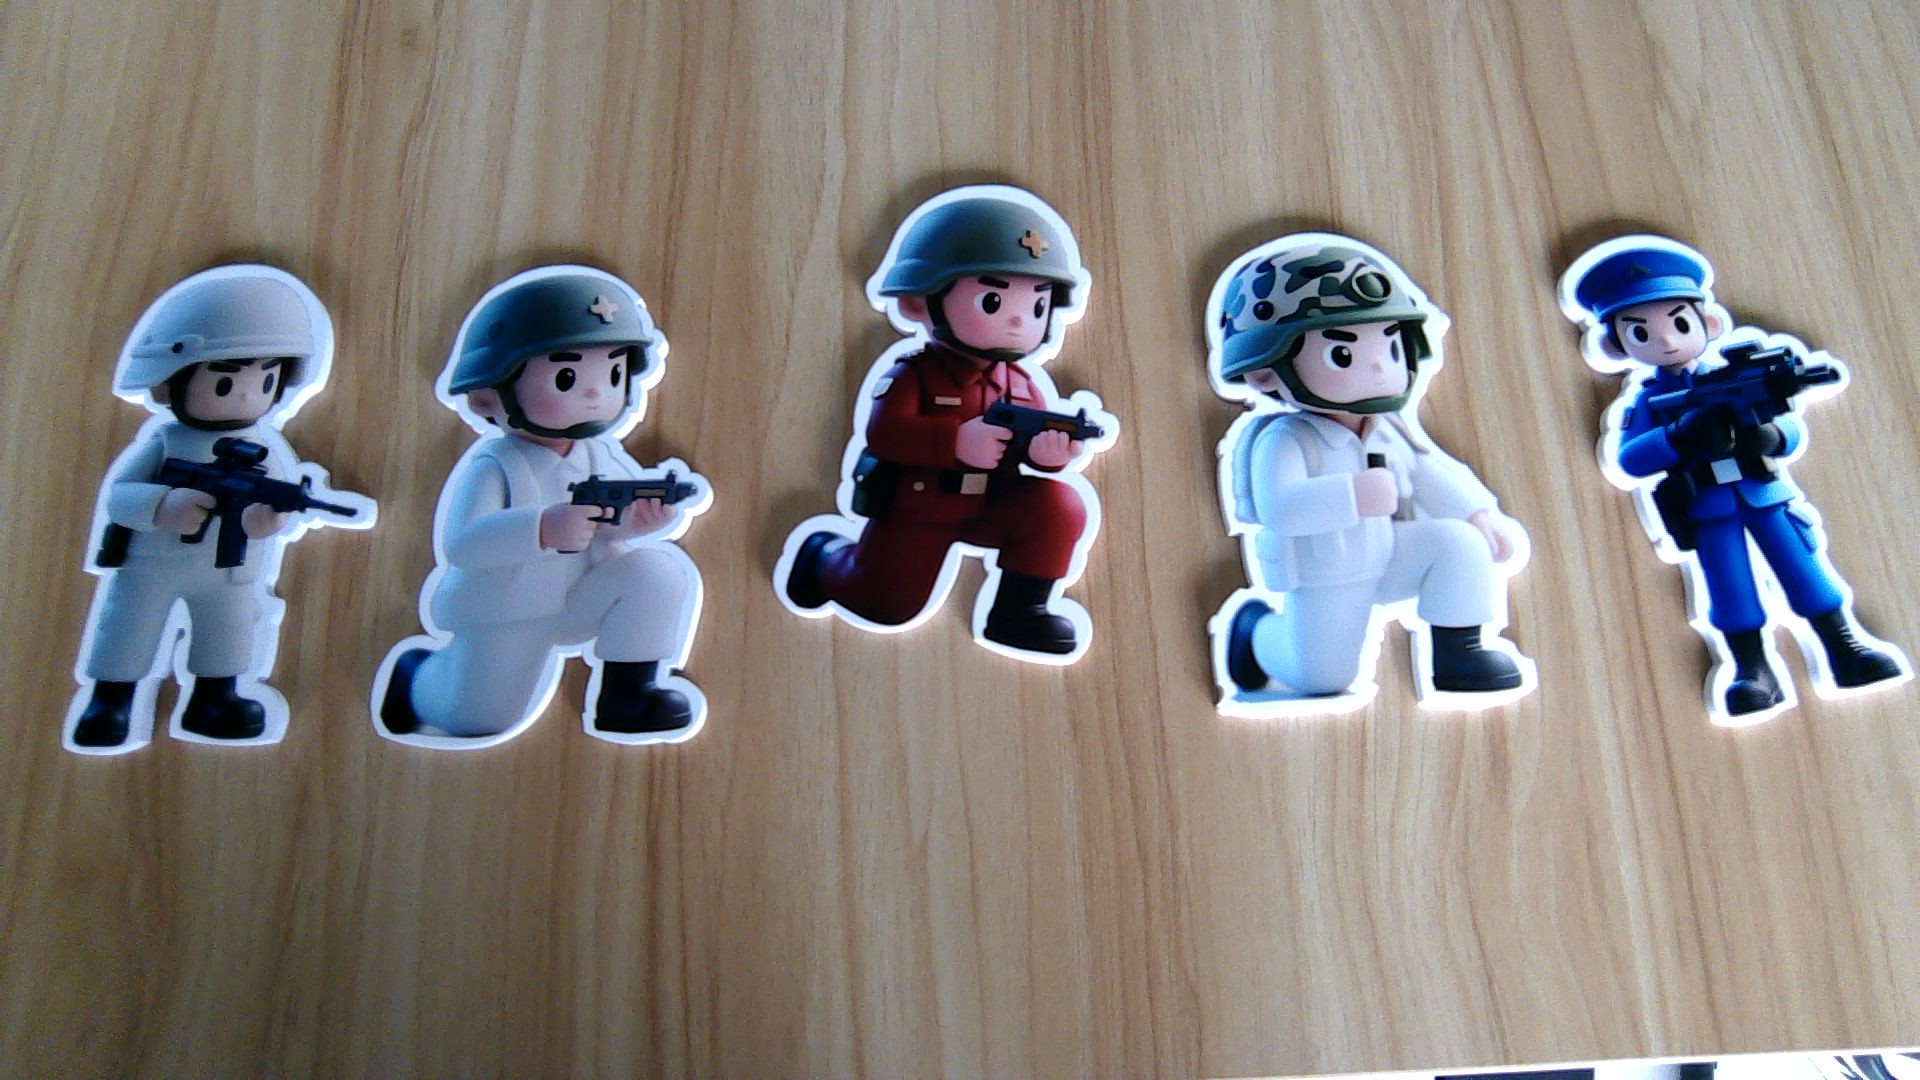人质: (1193, 417, 1535, 735), (371, 440, 716, 746), (55, 433, 344, 756)
敌人1: (767, 351, 1121, 673)
敌人2: (1592, 375, 1920, 735)
